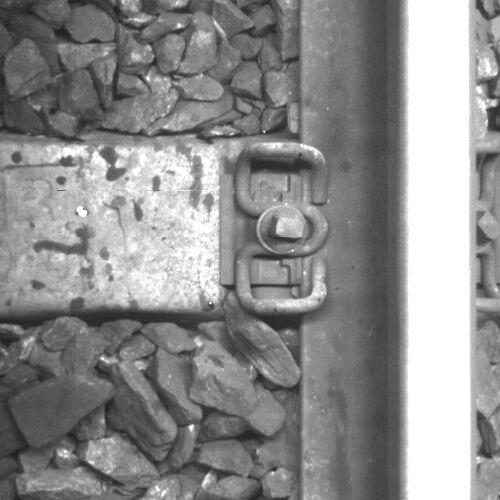rail: (401, 1, 477, 500)
tie_concr: (1, 142, 299, 313)
vossloh: (218, 139, 332, 316)
